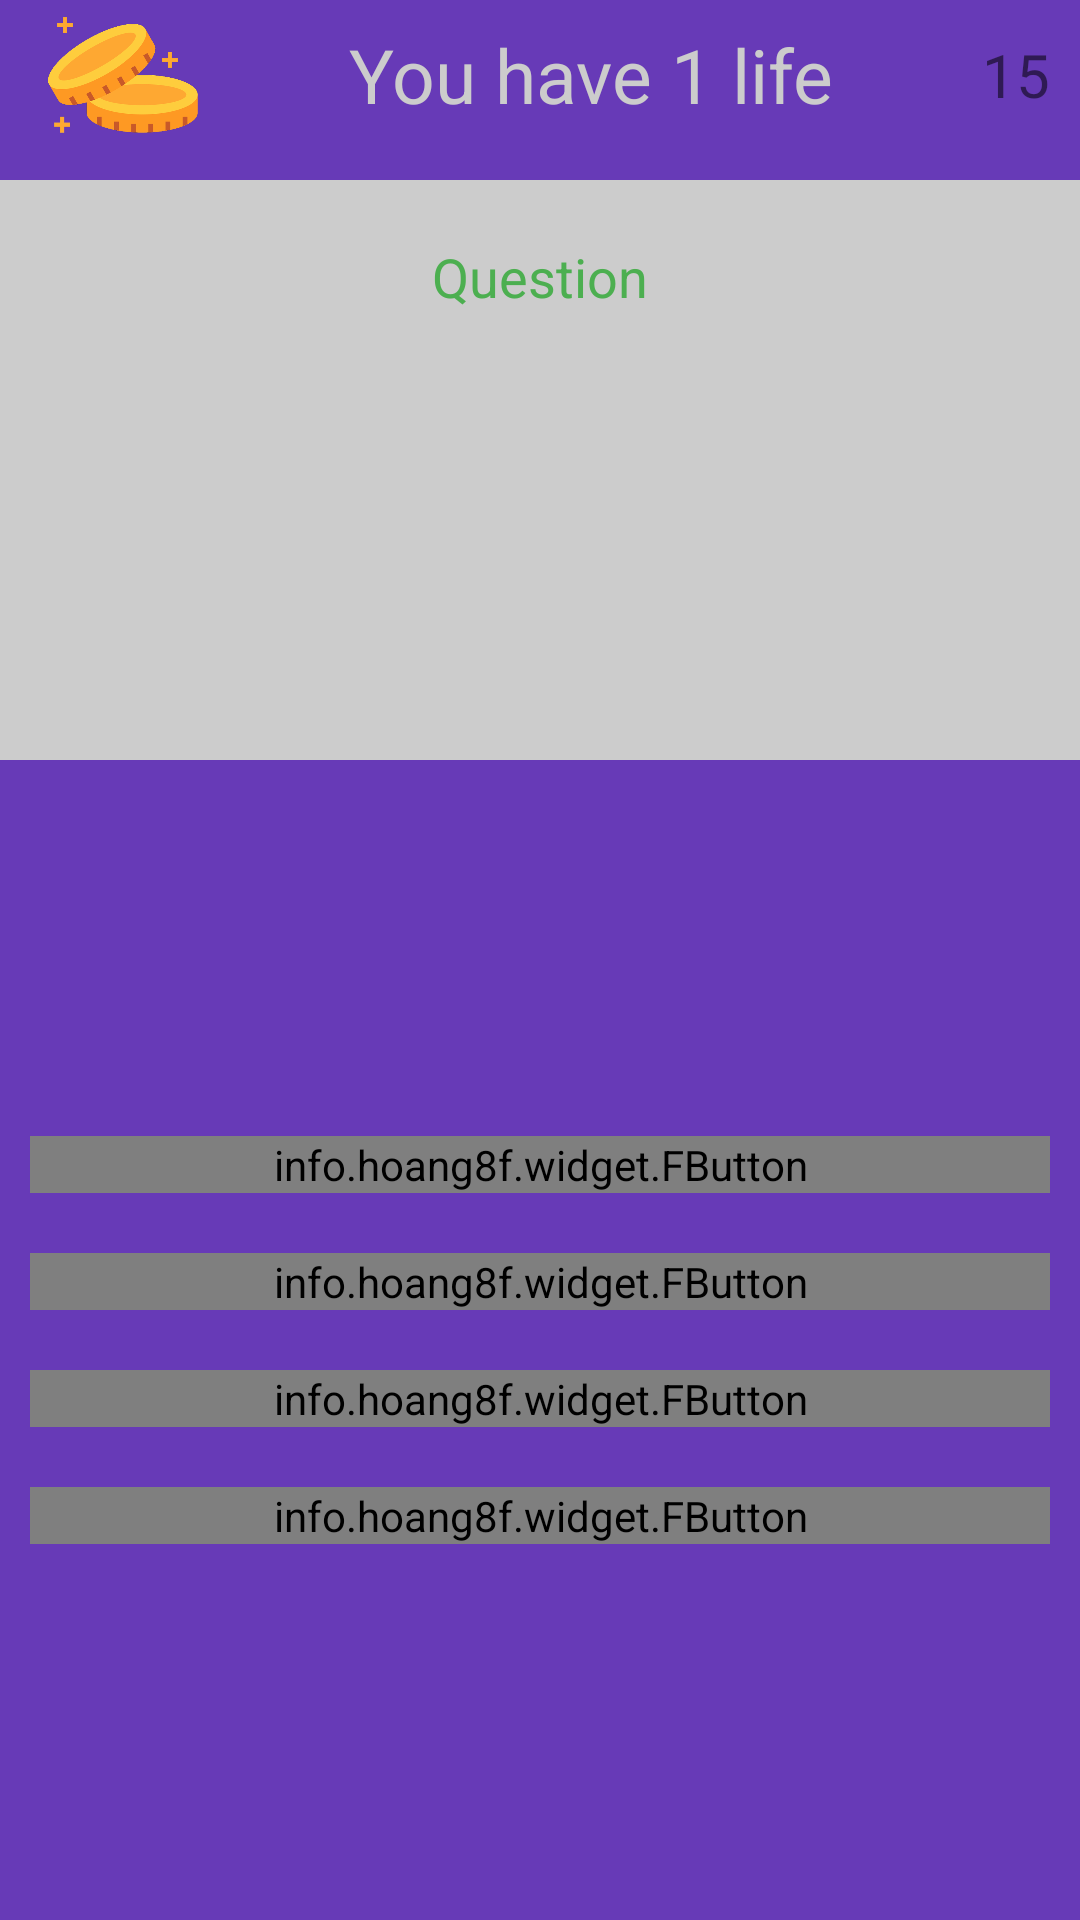

Icons on this 1080px x 1920px Android screen, each with the point to tap as (x,y):
coin: (123,75)
